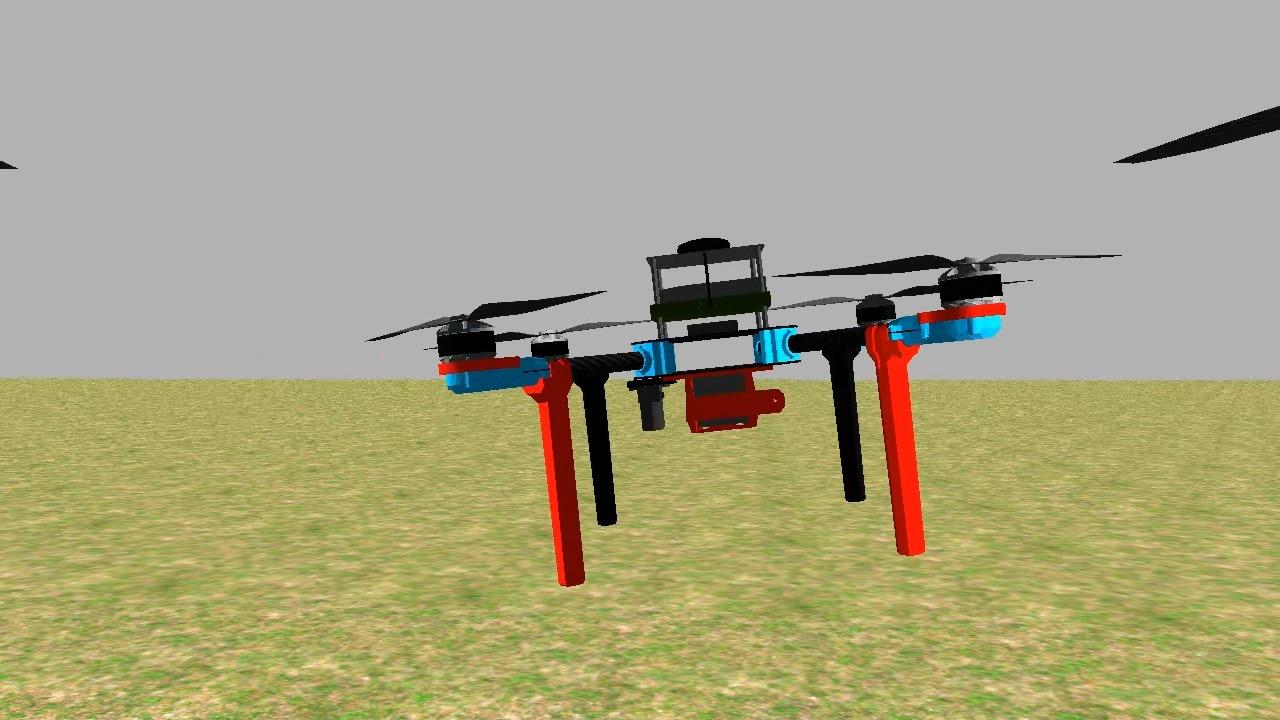UAV: (425, 229, 1020, 599)
